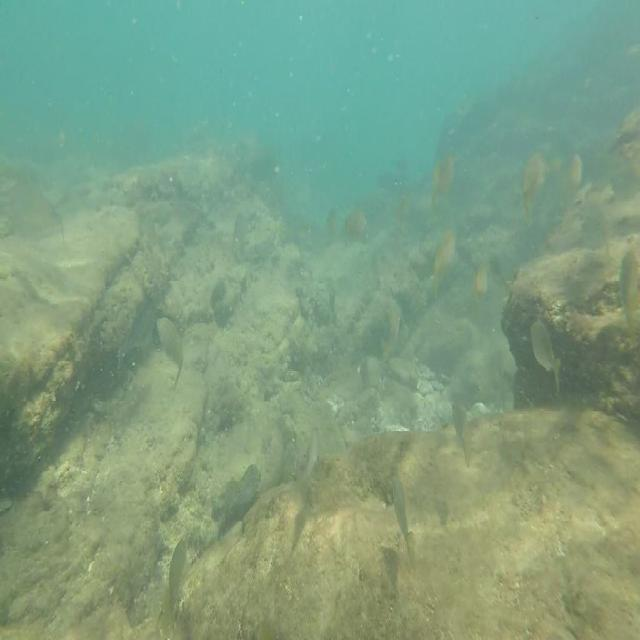Sokar Baligi: (528, 304, 570, 403), (151, 311, 195, 399)
